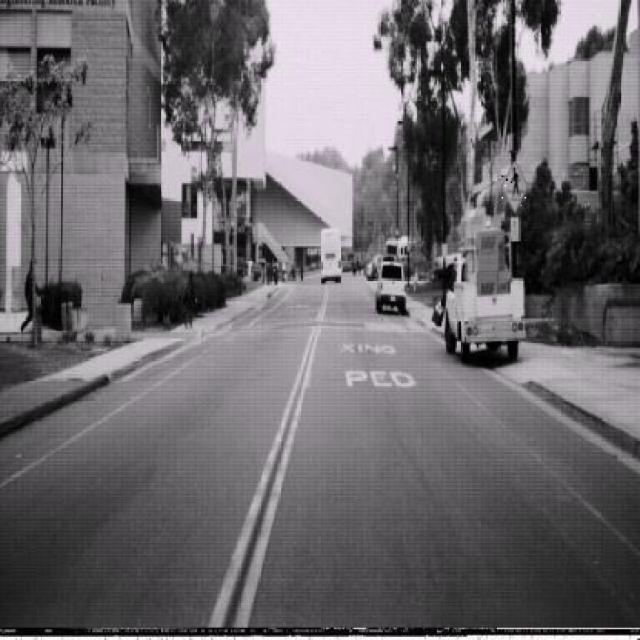pedestrianCrossing: (502, 157, 530, 213)
